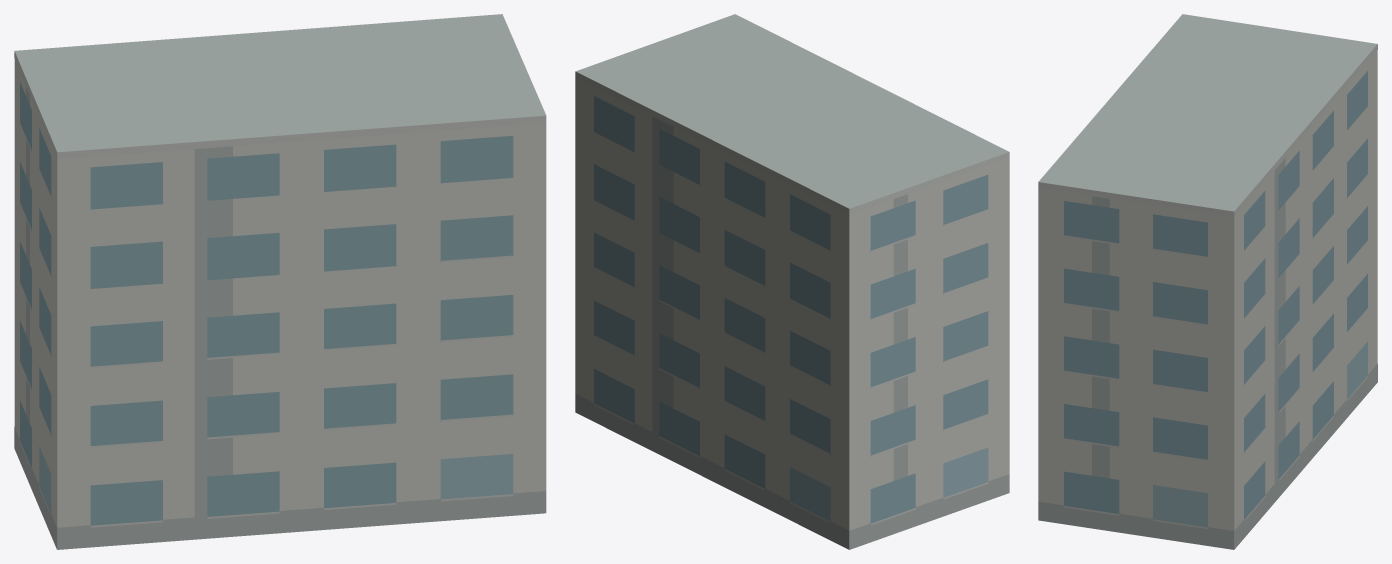
Rendered from survey-upis-32851169.glb.
3 views of the same model, side by side, from view 1: azimuth 30°, elevation 25°; view 2: azimuth 150°, elevation 25°; view 3: azimuth 270°, elevation 25° (orthographic). The views are drawn at different scales.
Visible parts, largest first — view 1: survey-upis-32851169.tmp; view 2: survey-upis-32851169.tmp; view 3: survey-upis-32851169.tmp.
Part boxes in pixels (left/top/right/bottom): survey-upis-32851169.tmp: left=14, top=14, right=546, bottom=549; survey-upis-32851169.tmp: left=575, top=14, right=1009, bottom=549; survey-upis-32851169.tmp: left=1038, top=14, right=1377, bottom=549.
Size of the model in its own units: 17.04 by 13.6 by 12.37.
